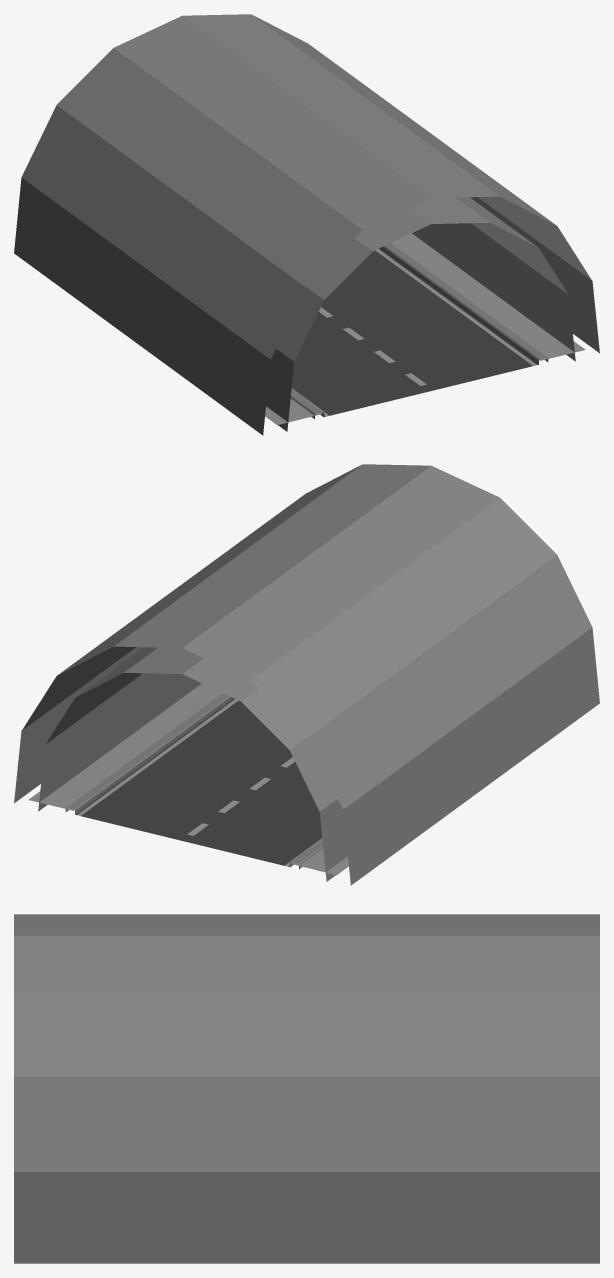
The model's file is SM_Envr_Nature_Mountain_Tunnel_Road_01.fbx.
The picture shows the model from 3 angles, top to bottom: view 1: azimuth 30°, elevation 25°; view 2: azimuth 150°, elevation 25°; view 3: azimuth 270°, elevation 25°; orthographic projection. The views are drawn at different scales.
Parts seen in each view (by area): view 1: SM_Envr_Nature_Mountain_Tunnel_Road_01; view 2: SM_Envr_Nature_Mountain_Tunnel_Road_01; view 3: SM_Envr_Nature_Mountain_Tunnel_Road_01.
Boxes of the visible parts, x1,y1,x2,y2 form: SM_Envr_Nature_Mountain_Tunnel_Road_01: (14, 14, 599, 435); SM_Envr_Nature_Mountain_Tunnel_Road_01: (14, 464, 599, 885); SM_Envr_Nature_Mountain_Tunnel_Road_01: (14, 914, 599, 1263).
Size of the model in its own units: 1561 by 881 by 2000.
